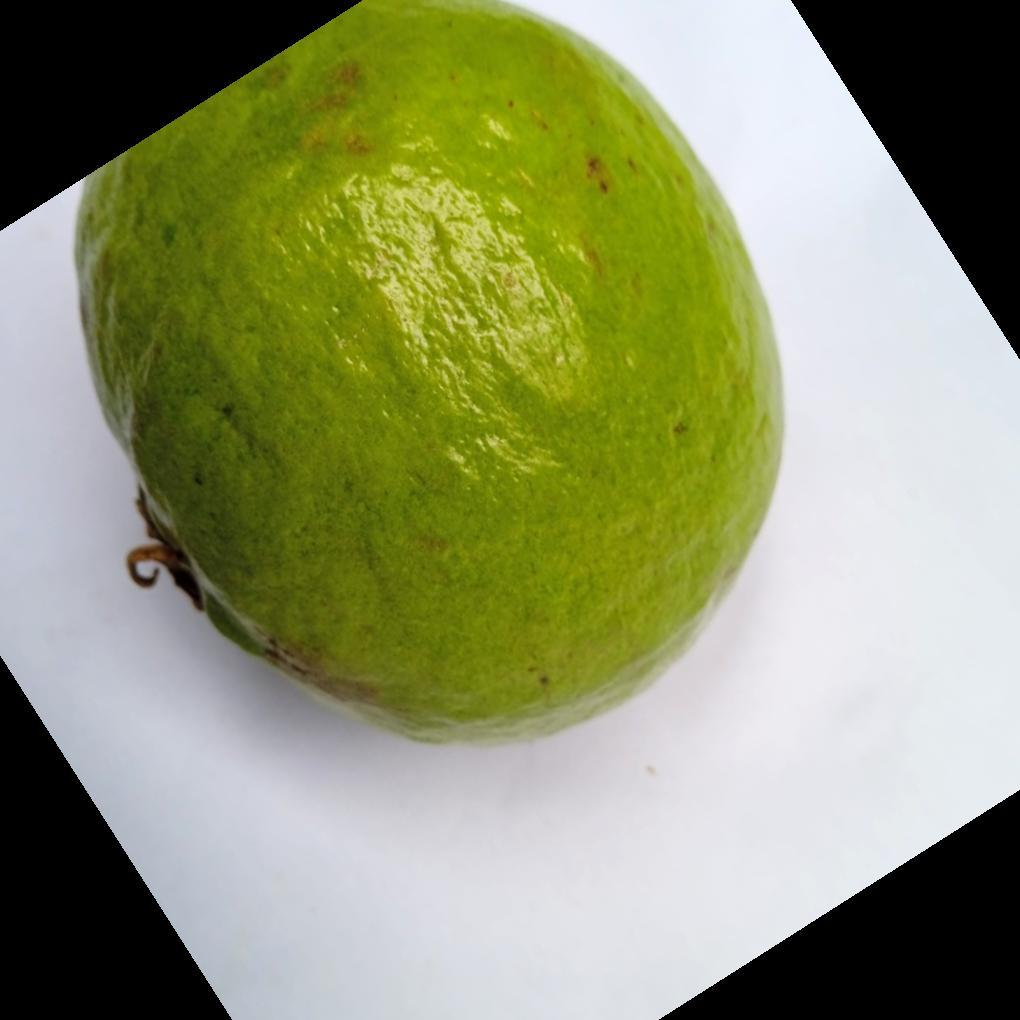FreshGuava: (71, 0, 786, 751)
